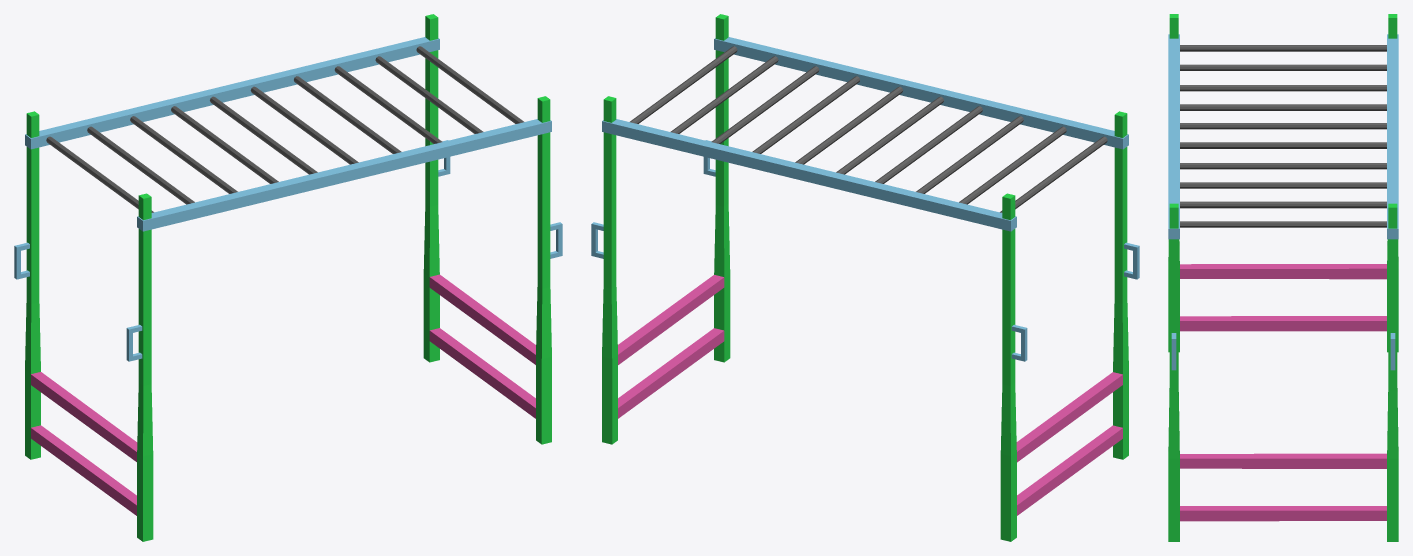
The model's file is Monkey Bars.fbx.
The picture shows the model from 3 angles, left to right: view 1: azimuth 30°, elevation 25°; view 2: azimuth 150°, elevation 25°; view 3: azimuth 270°, elevation 25°; orthographic projection. The views are drawn at different scales.
Parts seen in each view (by area): view 1: Monkey Bars; view 2: Monkey Bars; view 3: Monkey Bars.
Part boxes in pixels (<box>): Monkey Bars: <box>14,14,562,541</box>; Monkey Bars: <box>591,14,1139,541</box>; Monkey Bars: <box>1168,14,1398,541</box>.
Size of the model in its own units: 1696 by 1280 by 800.
